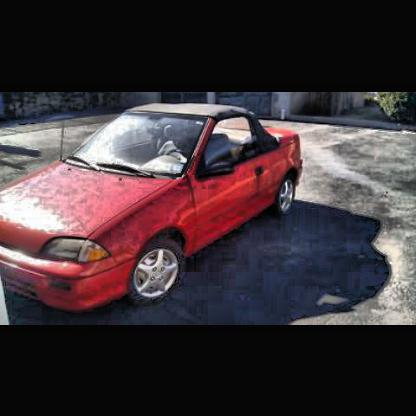Geo Metro Convertible 1993: (1, 105, 305, 314)
